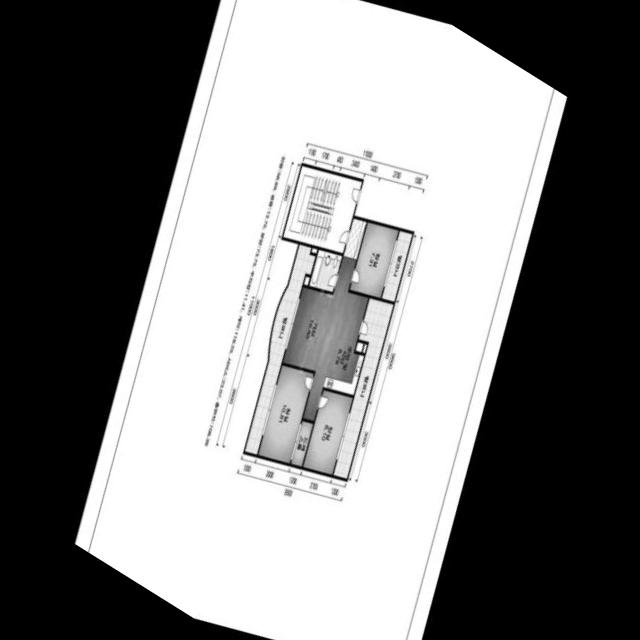background: (74, 0, 566, 640)
space_balconi: (244, 243, 314, 453), (332, 297, 392, 478), (381, 230, 411, 301)
space_bedroom: (257, 364, 313, 462), (302, 389, 352, 474), (349, 221, 397, 297)
space_dressroom: (290, 420, 312, 465)
space_front: (342, 217, 366, 258)
space_kitchen: (322, 292, 367, 394)
space_living_room: (282, 255, 355, 420)
space_other: (355, 341, 363, 351), (303, 276, 309, 284), (362, 343, 366, 352), (310, 247, 316, 252)
space_staircase: (282, 165, 361, 252)
space_toilet: (308, 249, 341, 291)
